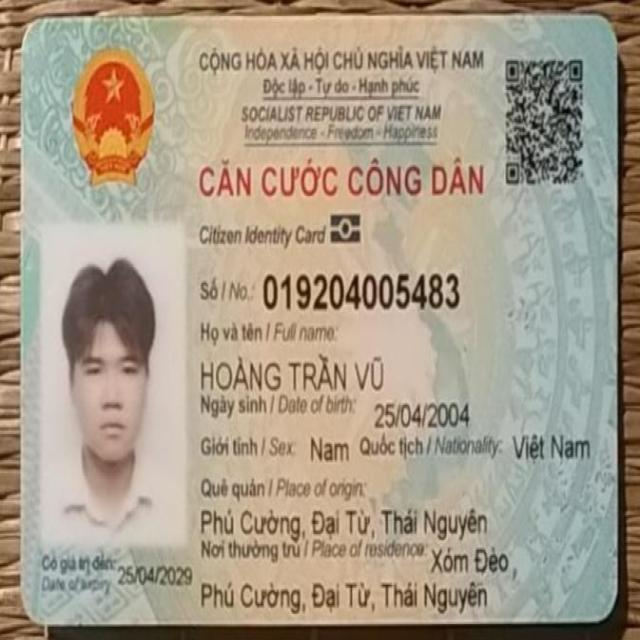current_place: (198, 569, 489, 616), (428, 541, 519, 582)
dob: (374, 400, 472, 432)
expire_date: (115, 562, 195, 589)
gender: (308, 433, 352, 467)
id: (263, 269, 460, 314)
name: (196, 347, 388, 397)
nationality: (509, 426, 592, 463)
origin_place: (200, 504, 491, 539)
qr: (504, 53, 584, 188)
